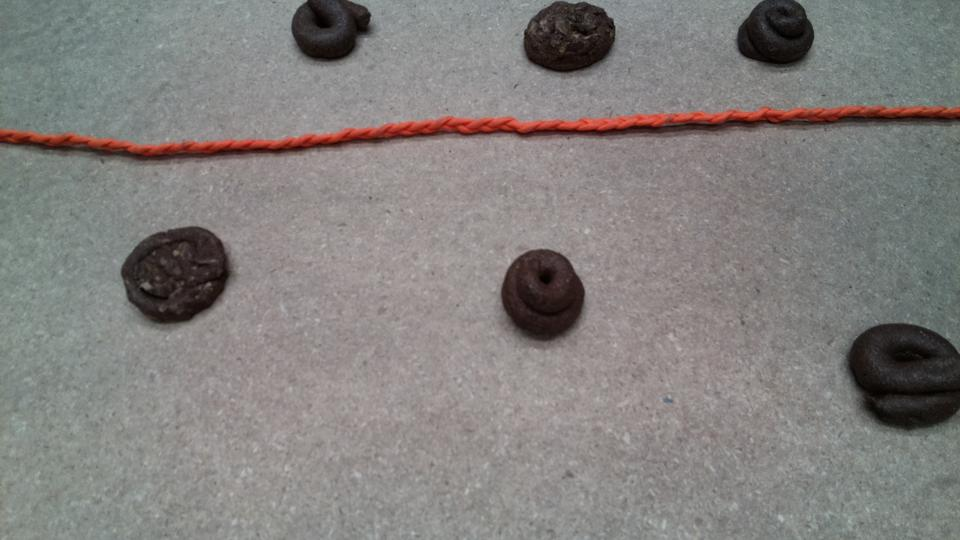poop: (846, 318, 960, 433), (118, 222, 235, 326), (498, 244, 589, 344), (521, 1, 619, 74), (734, 1, 819, 68), (289, 1, 378, 63)
rope: (1, 100, 957, 164)
